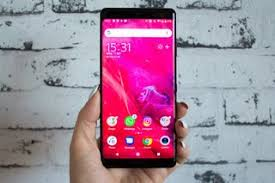sony: (96, 4, 179, 171)
